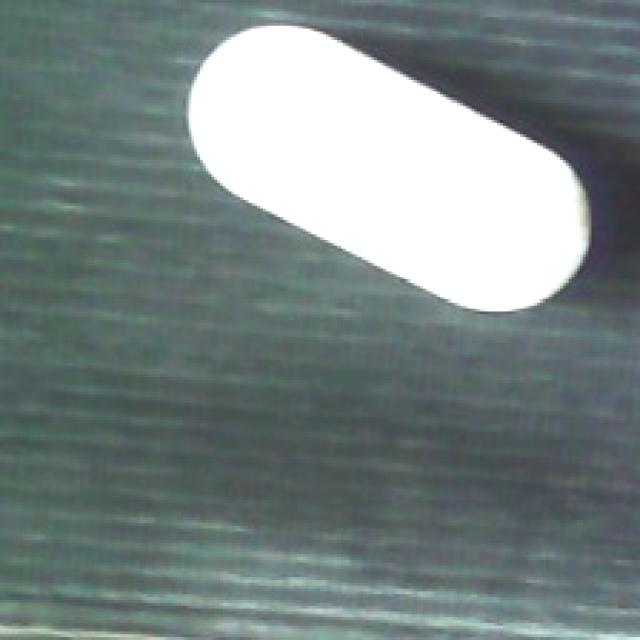no-defect: (183, 25, 597, 318)
